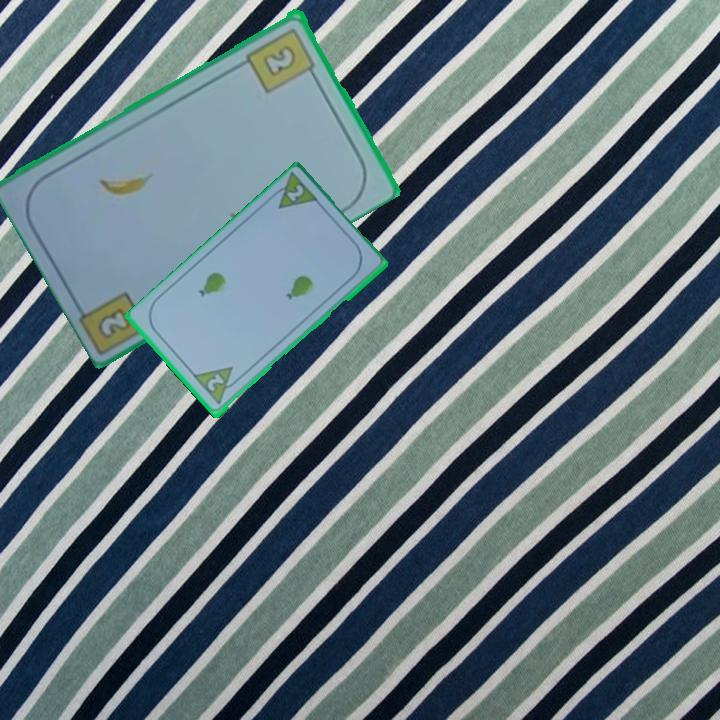2b: (243, 24, 320, 96), (97, 307, 131, 338)
2p: (283, 181, 307, 205), (204, 370, 227, 395)
